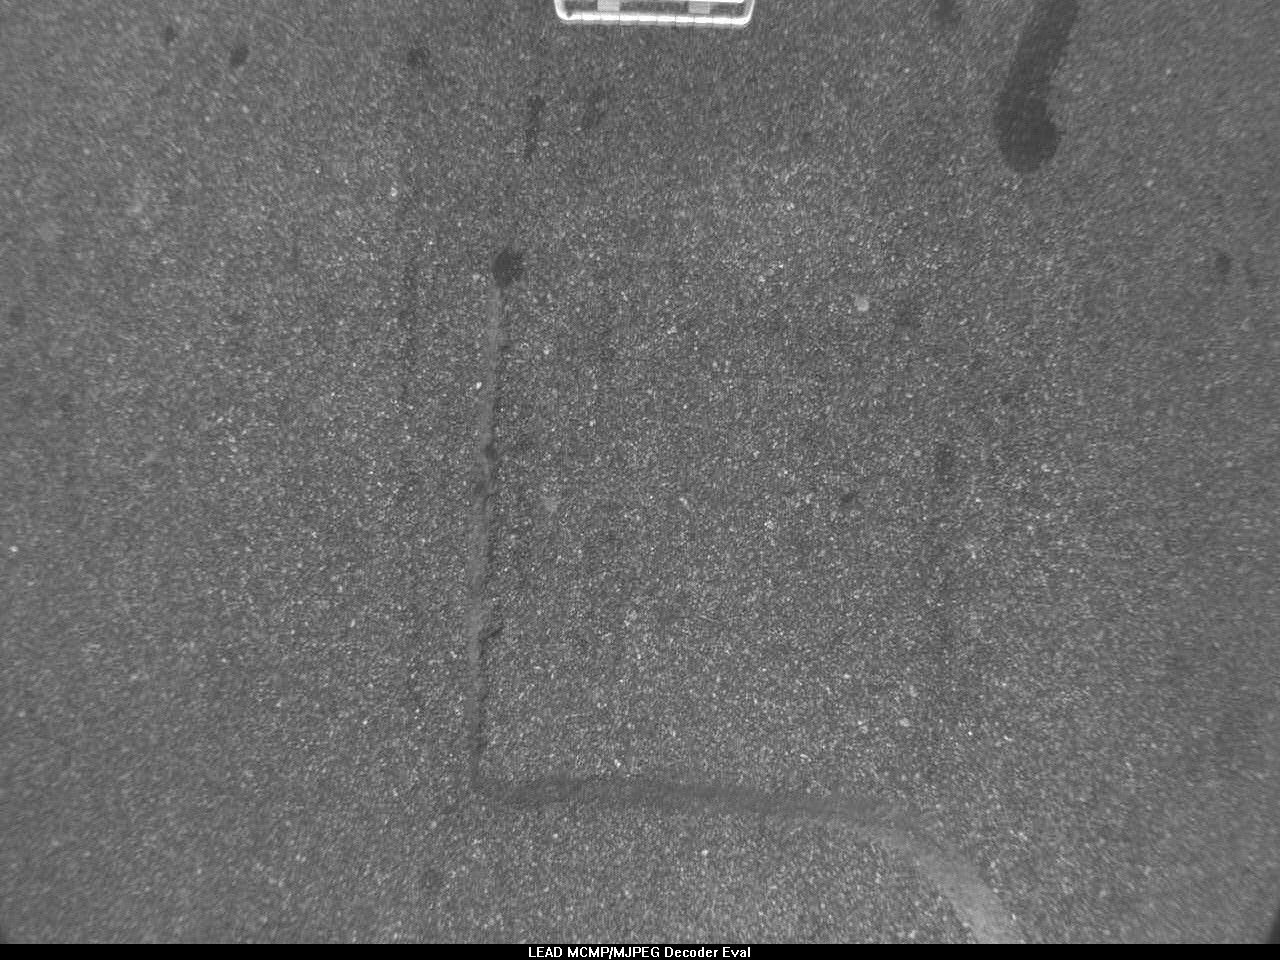sealed: (468, 755, 1033, 938), (983, 2, 1081, 179)
